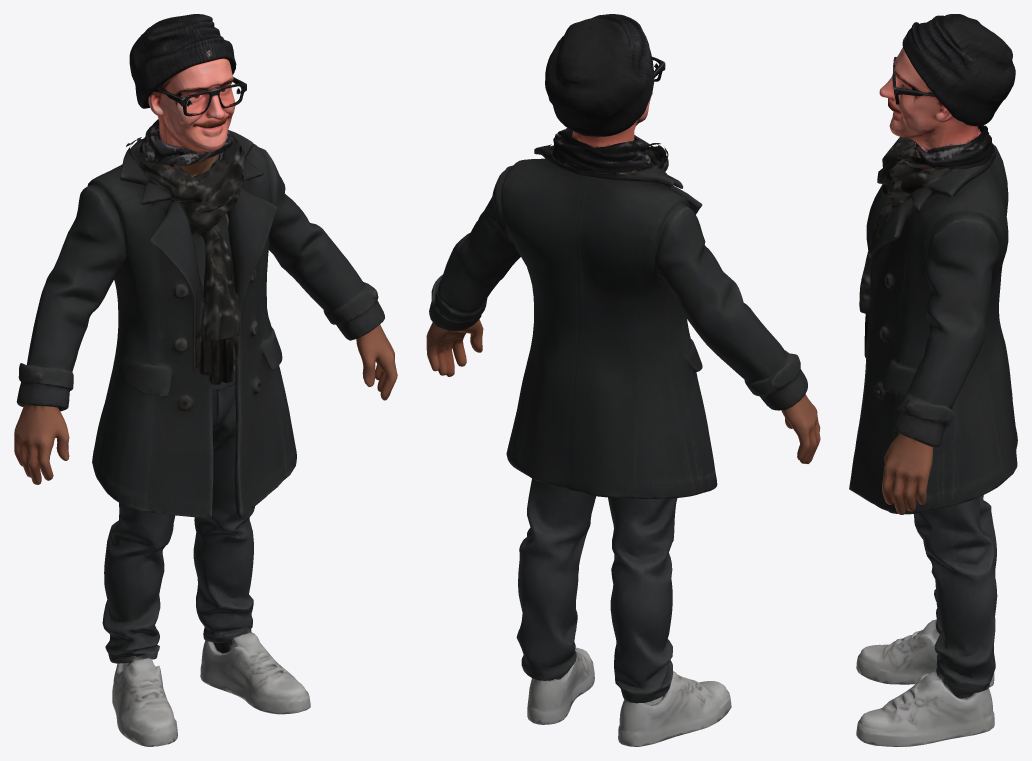
File: tim-v4.glb
3 renders of one model, left to right at view 1: azimuth 30°, elevation 25°; view 2: azimuth 150°, elevation 25°; view 3: azimuth 270°, elevation 25°, orthographic. The views are drawn at different scales.
Visible parts, largest first — view 1: world (×2); view 2: world (×2); view 3: world (×2).
Boxes of the visible parts, <box> form: world (×2): <box>14,14,397,746</box>; world (×2): <box>426,14,820,746</box>; world (×2): <box>849,14,1017,746</box>.
Bounding box in the file's own units: 0.5767 × 1.01 × 0.2248.
2 materials, 2 textured.
